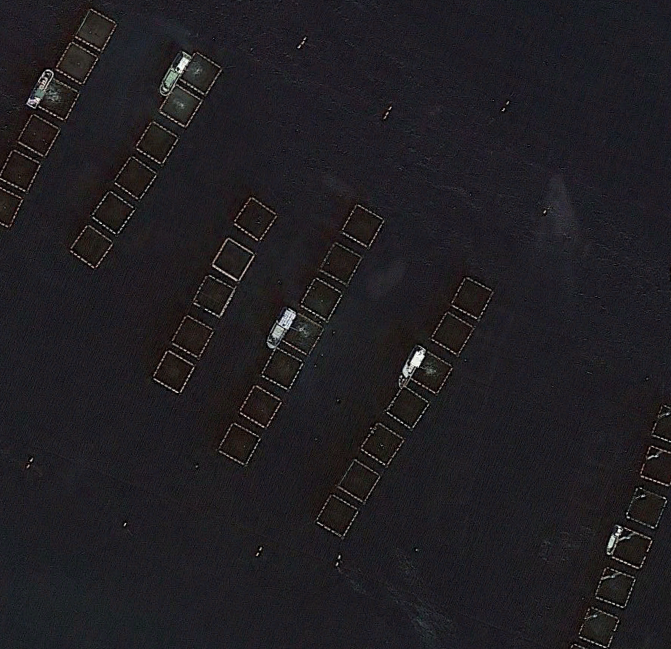ship: (154, 42, 202, 98), (386, 329, 430, 389), (265, 297, 301, 355), (14, 62, 58, 106), (600, 519, 624, 556)
square: (233, 381, 295, 435), (253, 338, 311, 395), (212, 418, 272, 472), (407, 342, 460, 397), (380, 376, 436, 428), (330, 452, 384, 504), (273, 307, 328, 358), (336, 195, 388, 248), (69, 217, 120, 269), (591, 560, 642, 612), (147, 346, 198, 396), (449, 270, 500, 320), (87, 190, 142, 236), (608, 518, 656, 570), (200, 266, 243, 322), (299, 273, 348, 322), (432, 308, 482, 356), (313, 490, 363, 538), (168, 309, 217, 357), (49, 39, 98, 86), (364, 419, 408, 470), (166, 80, 212, 128), (318, 239, 366, 285), (178, 49, 229, 92), (15, 108, 60, 156), (236, 190, 280, 239), (113, 154, 158, 201), (211, 232, 256, 279), (578, 600, 621, 649), (34, 71, 80, 116), (626, 482, 670, 528), (77, 7, 120, 52), (140, 118, 178, 162)
